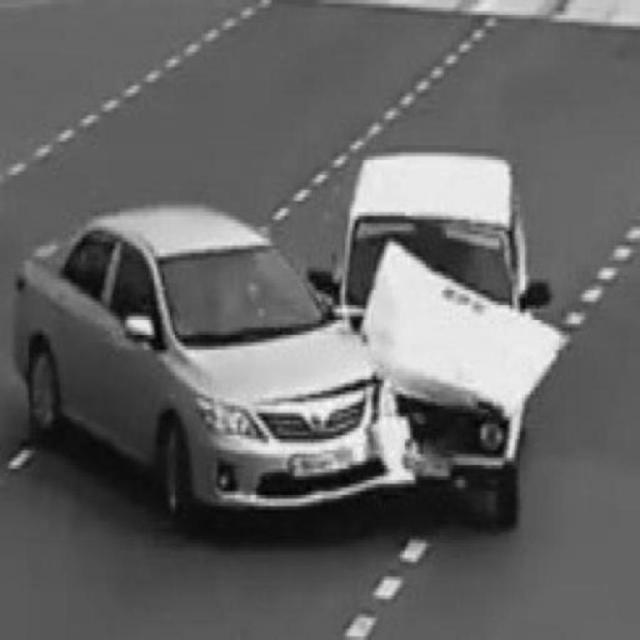accident: (22, 145, 530, 559)
